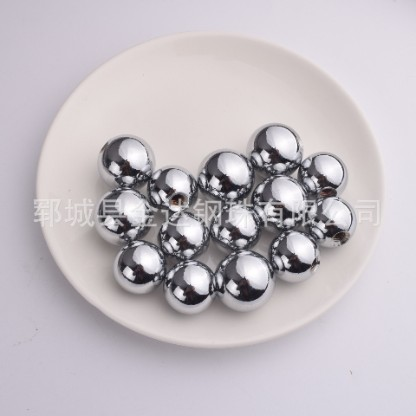ironball: (213, 249, 275, 312), (93, 186, 153, 246), (250, 174, 308, 232), (97, 134, 155, 189), (246, 122, 303, 177), (196, 148, 254, 202), (112, 239, 167, 294), (162, 259, 216, 314), (268, 229, 320, 282), (157, 211, 209, 262), (304, 196, 356, 247), (209, 202, 261, 253), (297, 151, 348, 199), (146, 165, 198, 212)
